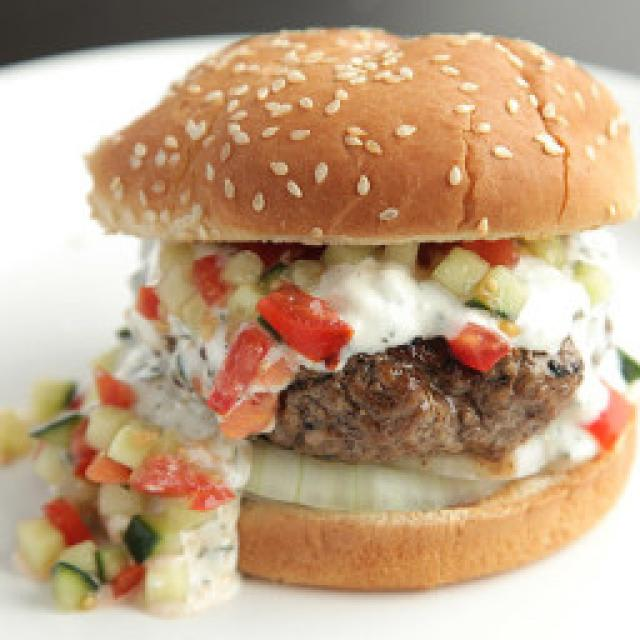burger: (12, 30, 640, 622)
